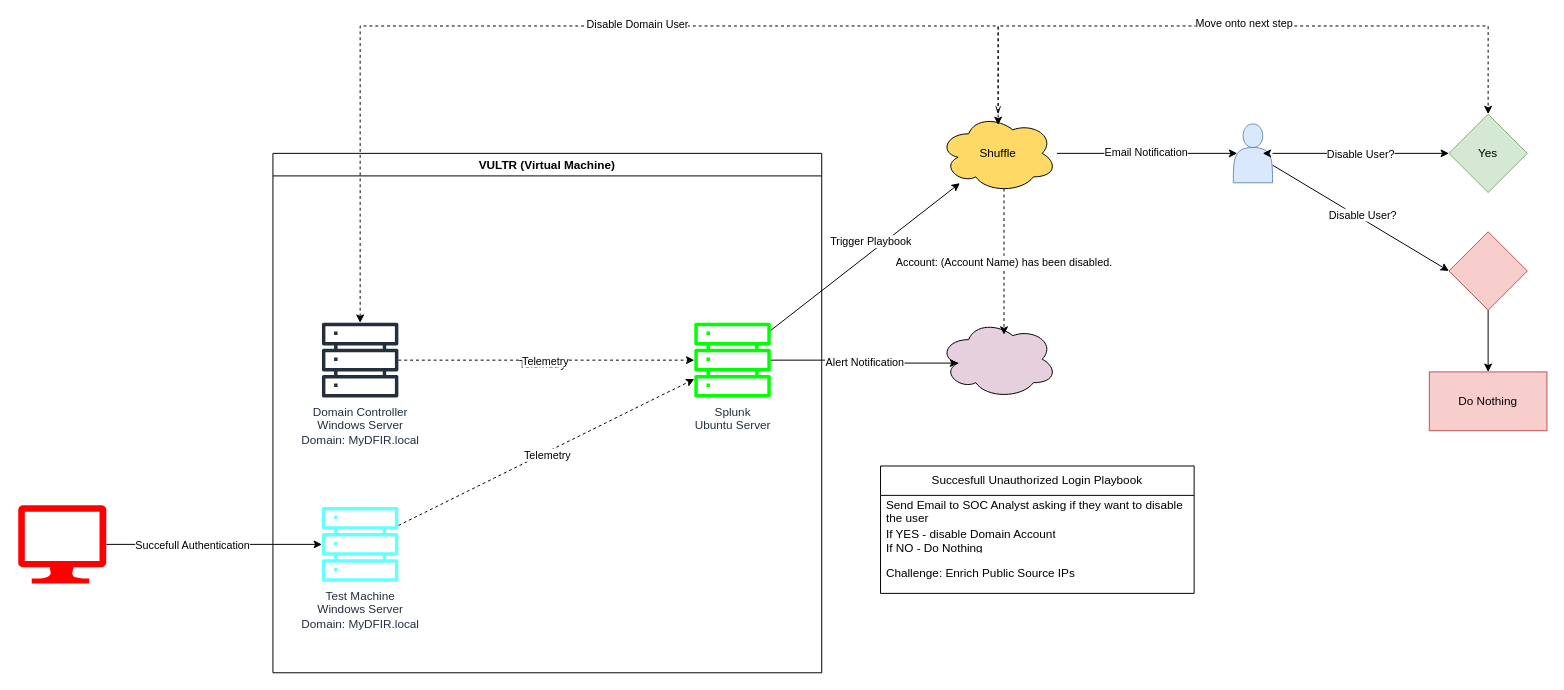
Some shapes in this 1564 by 690 pixel diagram are drawn without their labels. Here are the shapes that lost their labels. From the top down, the centre of each, then its label:
the point at 1252,153: SOC Analyst
the point at 1487,270: No
the point at 997,358: Slack
the point at 62,544: Attacker Machine
